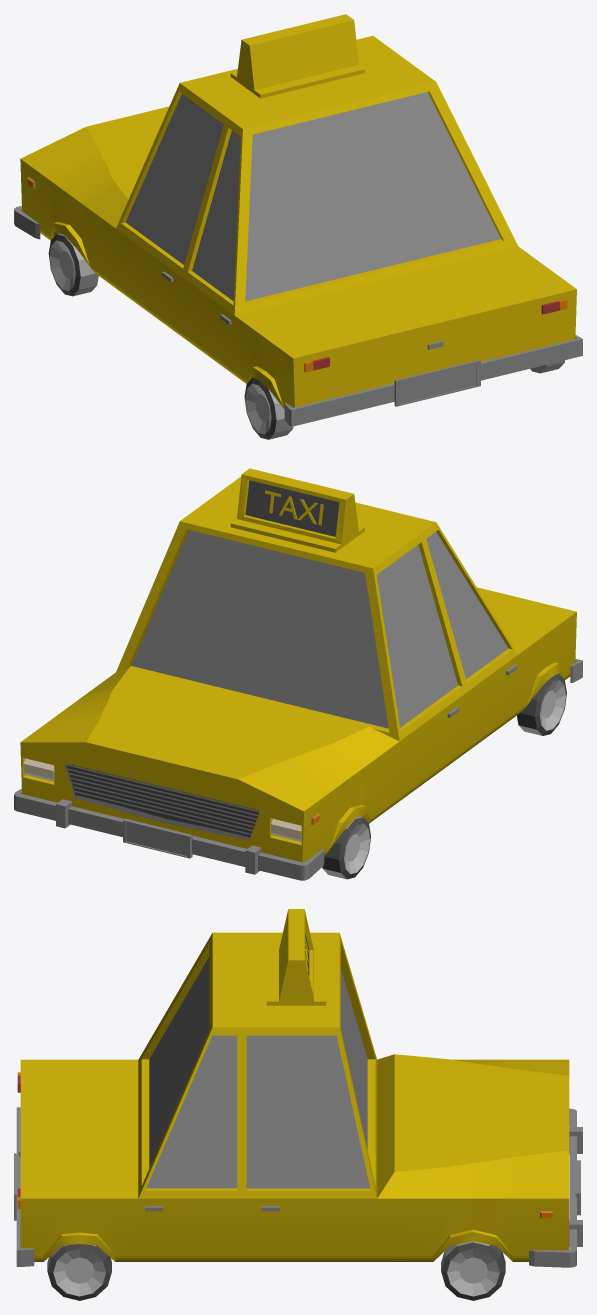
Rendered from Taxi.fbx.
3 views of the same model, one above another, from view 1: azimuth 30°, elevation 25°; view 2: azimuth 150°, elevation 25°; view 3: azimuth 270°, elevation 25° (orthographic).
Parts seen in each view (by area): view 1: Carrozzeria, Tabella_taxi, Parafango_posteriore, Ruota_ant_sx, Ruota_post_sx, Fari_post; view 2: Carrozzeria, Tabella_taxi, Parafango_anteriore, Radiatore, Ruota_ant_sx, Ruota_post_sx, Scritta_taxxi, Faro_dx; view 3: Carrozzeria, Tabella_taxi, Ruota_ant_dx, Ruota_post_dx, Parafango_anteriore, Parafango_posteriore.
Part boxes in pixels (x1=…): Carrozzeria: x1=20, y1=36, x2=576, y2=409; Tabella_taxi: x1=230, y1=14, x2=364, y2=98; Parafango_posteriore: x1=284, y1=335, x2=582, y2=426; Ruota_ant_sx: x1=48, y1=233, x2=98, y2=296; Ruota_post_sx: x1=244, y1=377, x2=293, y2=439; Fari_post: x1=304, y1=299, x2=567, y2=372; Carrozzeria: x1=20, y1=476, x2=576, y2=862; Tabella_taxi: x1=230, y1=468, x2=364, y2=552; Parafango_anteriore: x1=14, y1=788, x2=324, y2=880; Radiatore: x1=66, y1=764, x2=259, y2=837; Ruota_ant_sx: x1=322, y1=816, x2=370, y2=879; Ruota_post_sx: x1=517, y1=673, x2=566, y2=735; Scritta_taxxi: x1=265, y1=490, x2=323, y2=525; Faro_dx: x1=23, y1=758, x2=54, y2=781; Carrozzeria: x1=20, y1=932, x2=569, y2=1261; Tabella_taxi: x1=266, y1=909, x2=326, y2=1005; Ruota_ant_dx: x1=441, y1=1241, x2=505, y2=1300; Ruota_post_dx: x1=47, y1=1244, x2=111, y2=1300; Parafango_anteriore: x1=529, y1=1108, x2=582, y2=1267; Parafango_posteriore: x1=14, y1=1107, x2=34, y2=1266.
Size of the model in its own units: 3.11 by 2.97 by 5.19.
